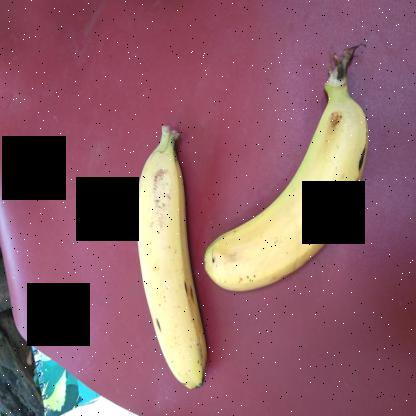freshripe: (121, 118, 215, 400)
ripe: (218, 94, 375, 295)
